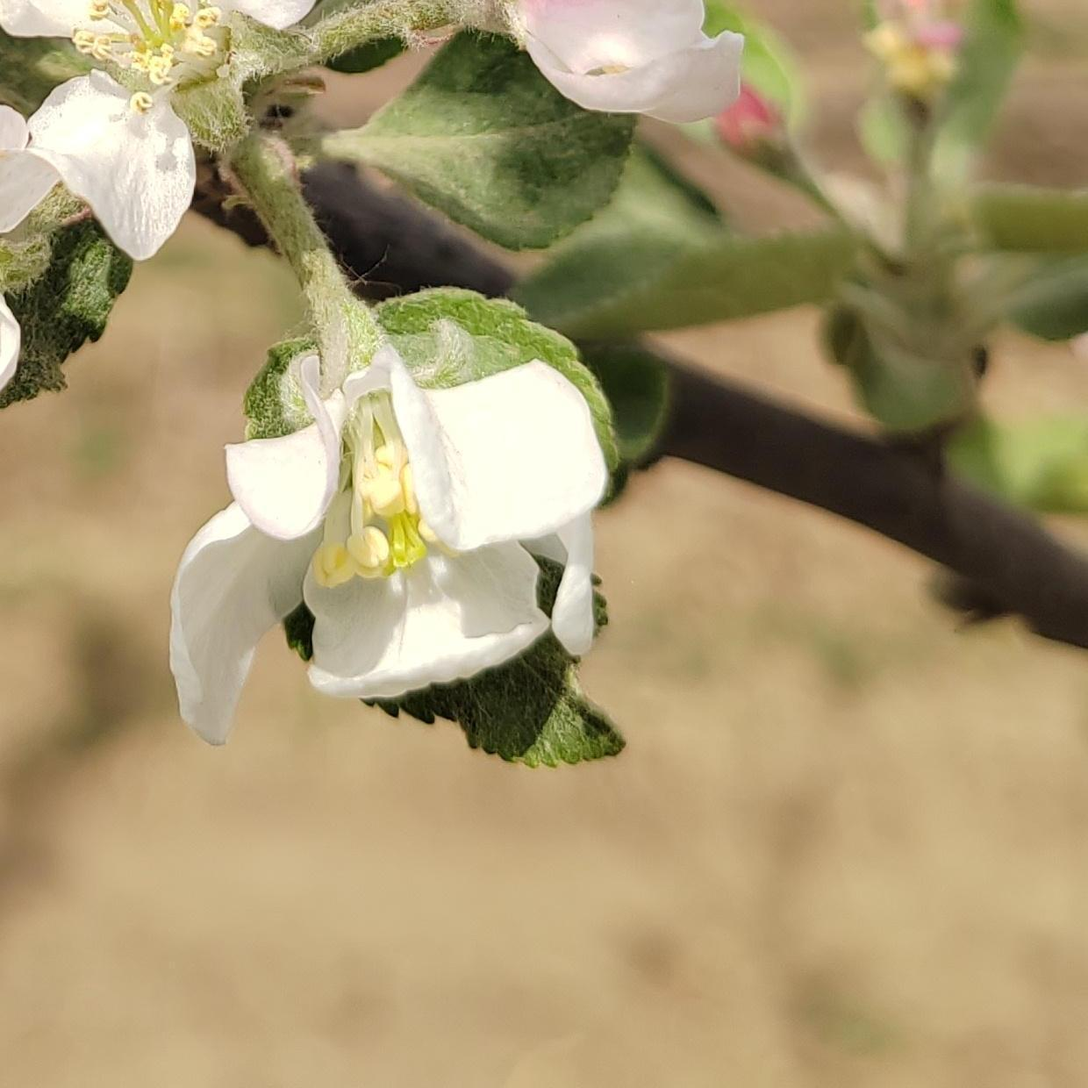apple_flower: (0, 0, 745, 736)
